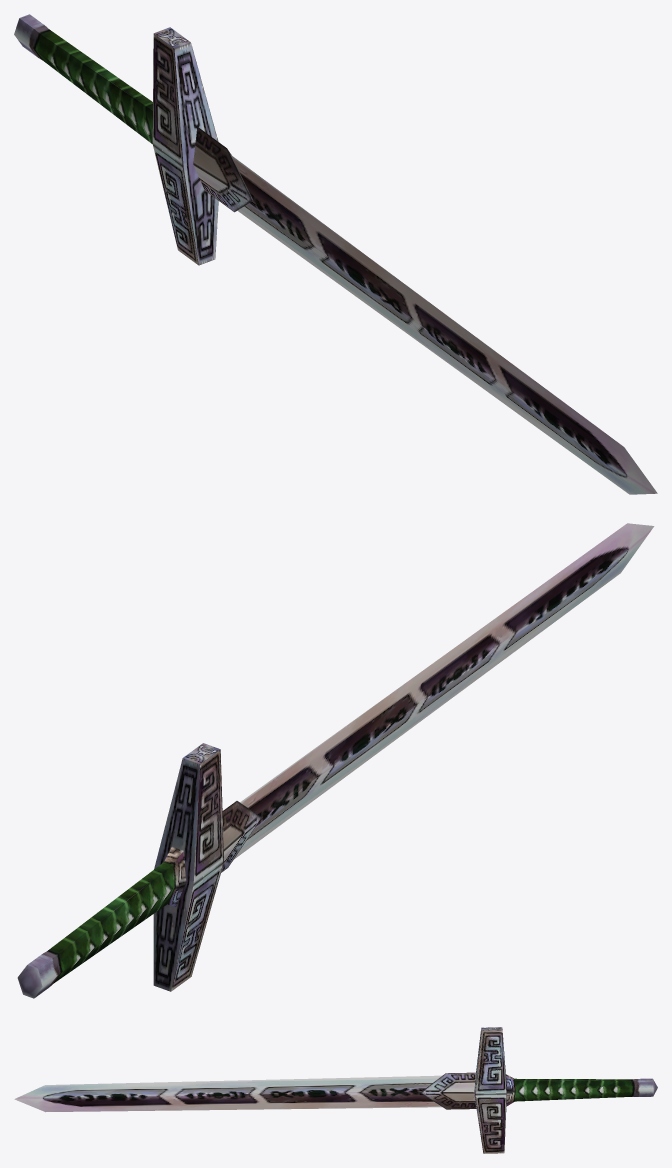
The model's file is heroSword.FBX.
The picture shows the model from 3 angles, top to bottom: view 1: azimuth 30°, elevation 25°; view 2: azimuth 150°, elevation 25°; view 3: azimuth 270°, elevation 25°; orthographic projection. The views are drawn at different scales.
Parts seen in each view (by area): view 1: b5544a8.ob; view 2: b5544a8.ob; view 3: b5544a8.ob.
Part boxes in pixels (left/top/right/bottom): b5544a8.ob: left=14, top=14, right=657, bottom=494; b5544a8.ob: left=17, top=523, right=654, bottom=998; b5544a8.ob: left=14, top=1027, right=657, bottom=1153.
Size of what is drawn, in the model's own units: 3.36 by 16.81 by 83.32.
